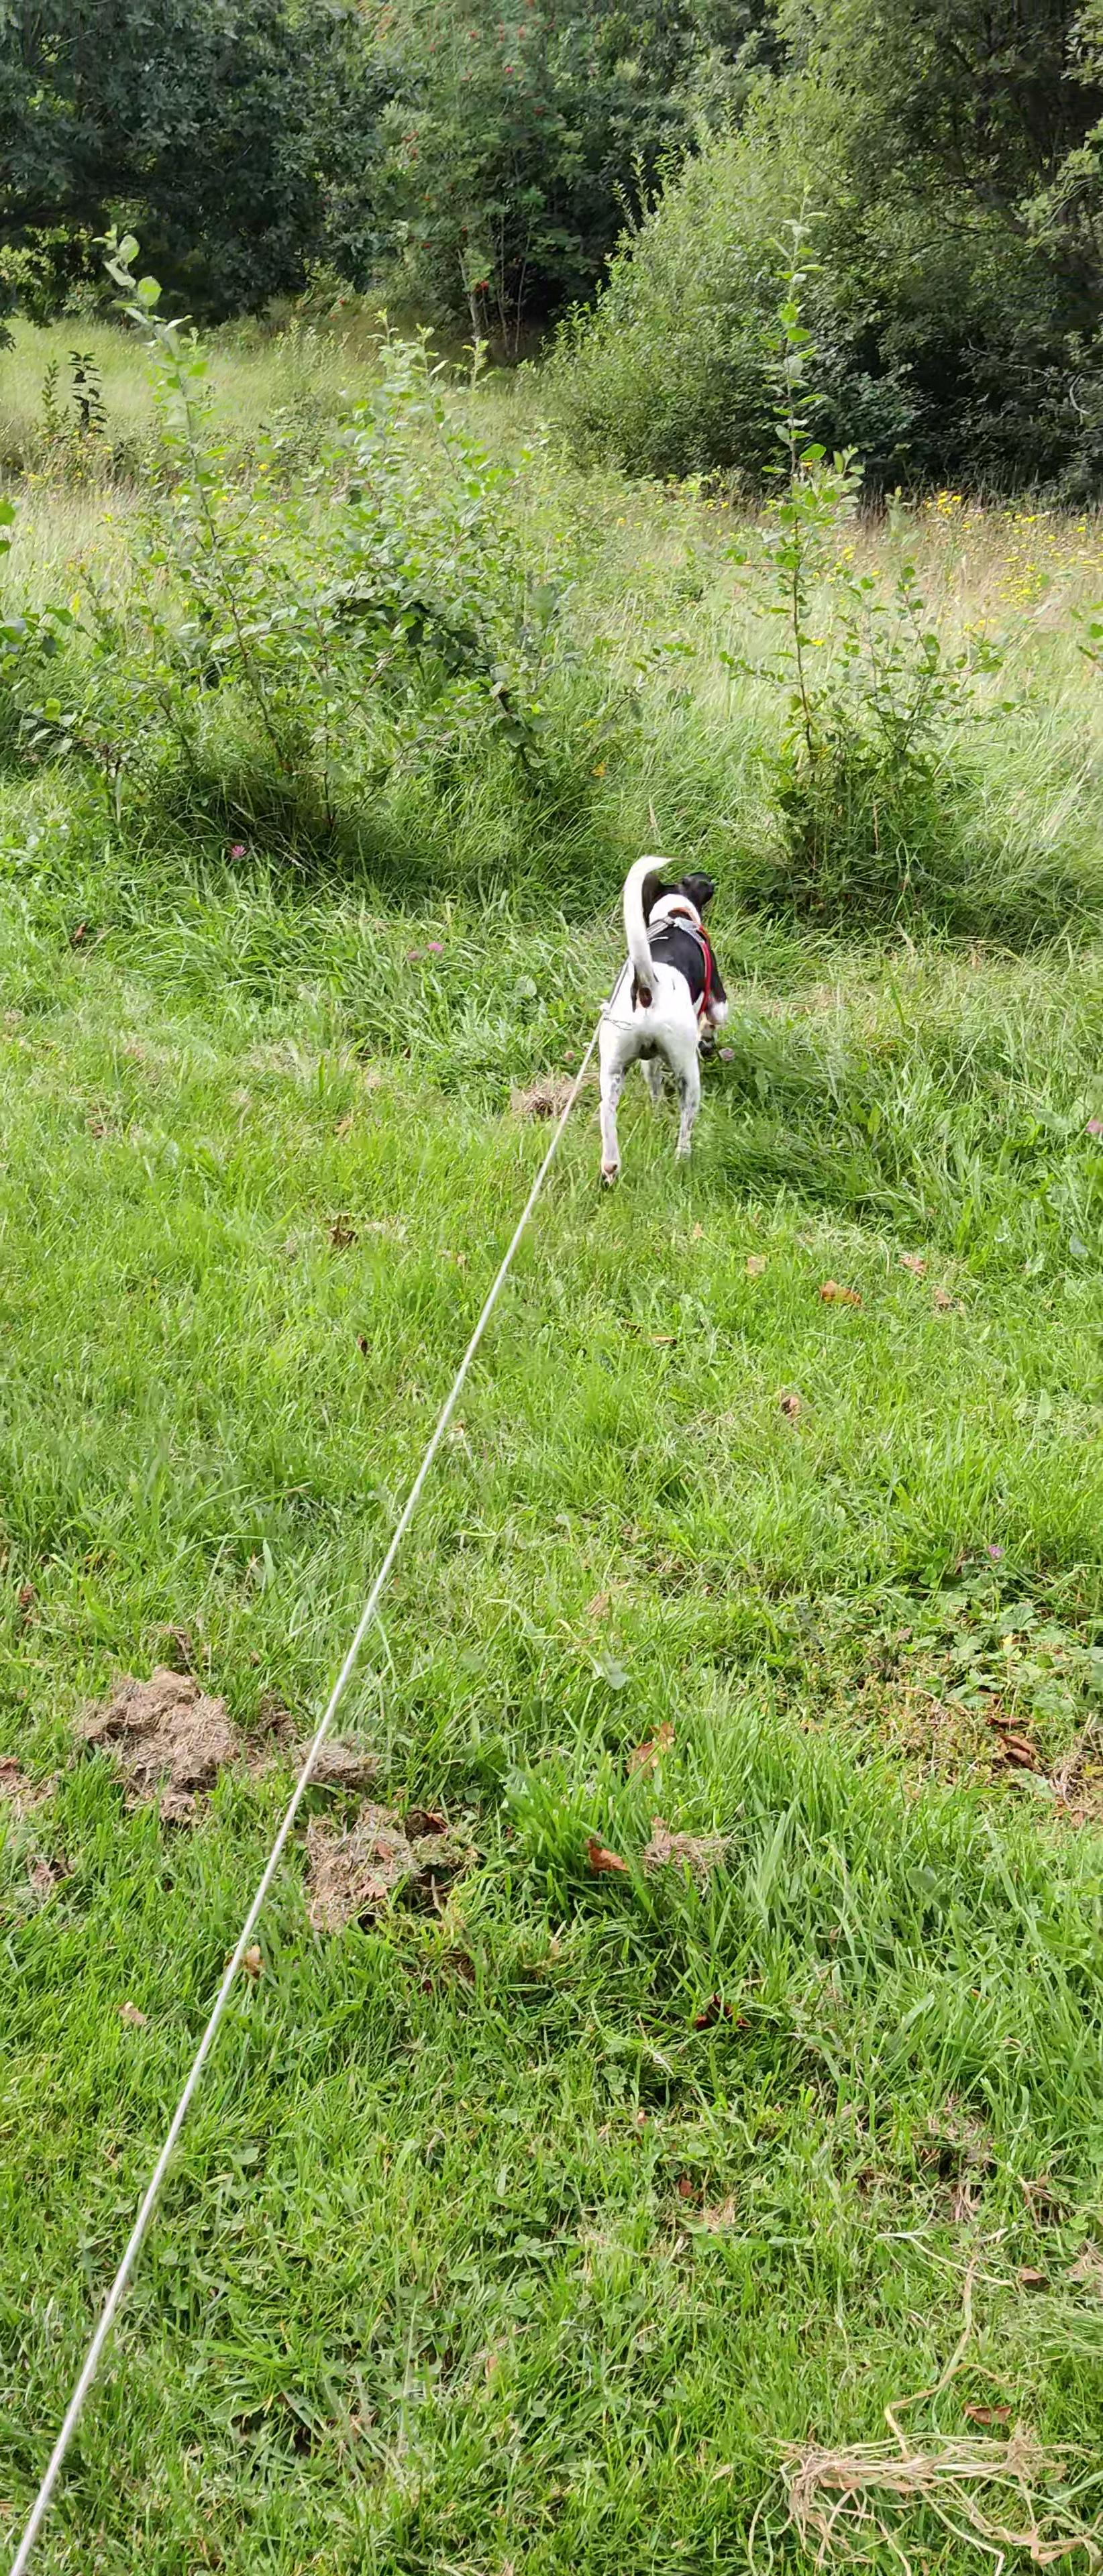Dog: (577, 820, 741, 1222)
